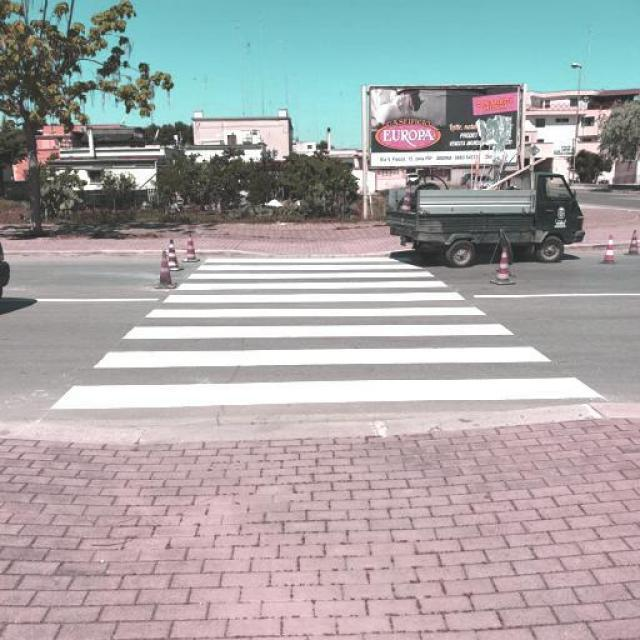crosswalk: (44, 253, 610, 412)
